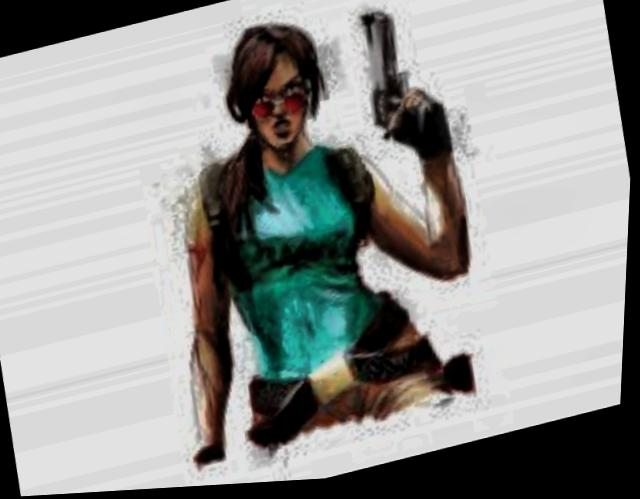pistol: (330, 0, 465, 159)
